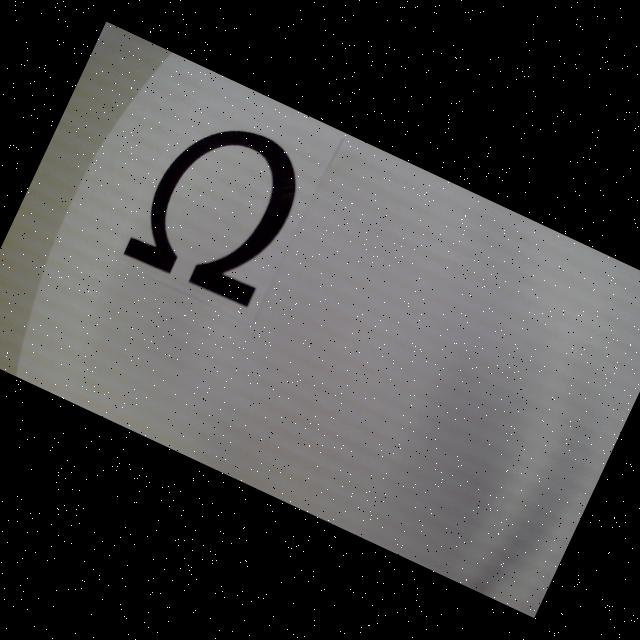OMEGA: (122, 102, 317, 312)
